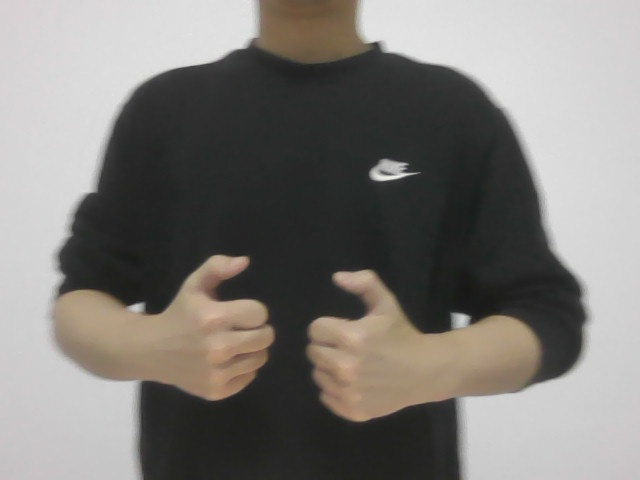marry/wife: (149, 231, 416, 424)
